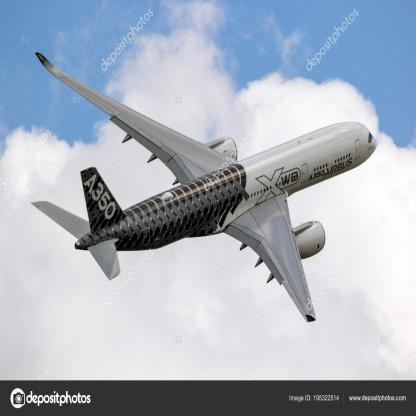CIV_Plane: (23, 39, 381, 334)
